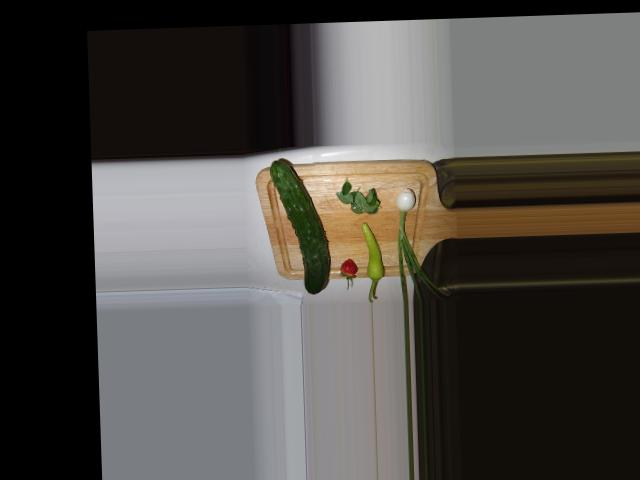cucumber: (269, 158, 330, 294)
